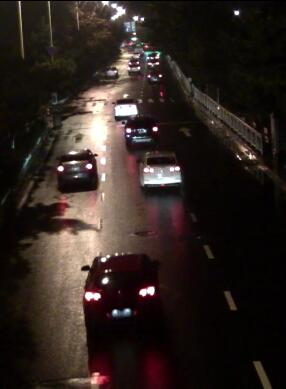car: (78, 249, 167, 335), (135, 146, 183, 191), (54, 147, 98, 186), (121, 116, 163, 149), (111, 93, 141, 119), (147, 67, 163, 84), (103, 63, 118, 79), (145, 56, 159, 68), (127, 64, 142, 74), (128, 54, 140, 63)
